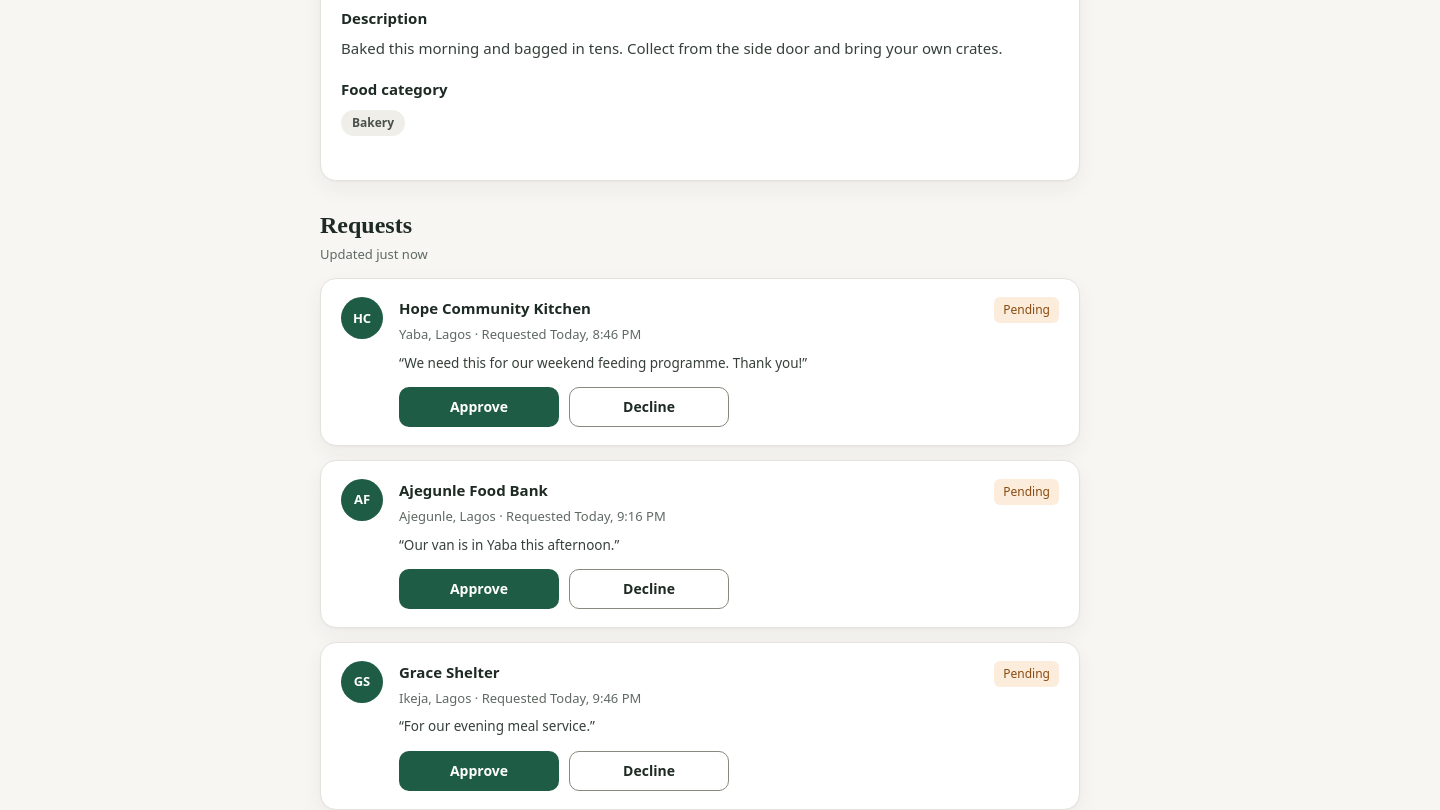
Listing details (donor): approving › rolls back on 409, says why, and moves focus to the request that is actually approved
(page scrolled)
Expected: the heading "Hope Community Kitchen" is shown, [399, 297, 591, 320]
What coordinates should you click on to do the following:
click the button "Approve" below "Our van is in Yaba this afternoon."
I would click on:
 (479, 589)
Its box is [399, 569, 559, 609].
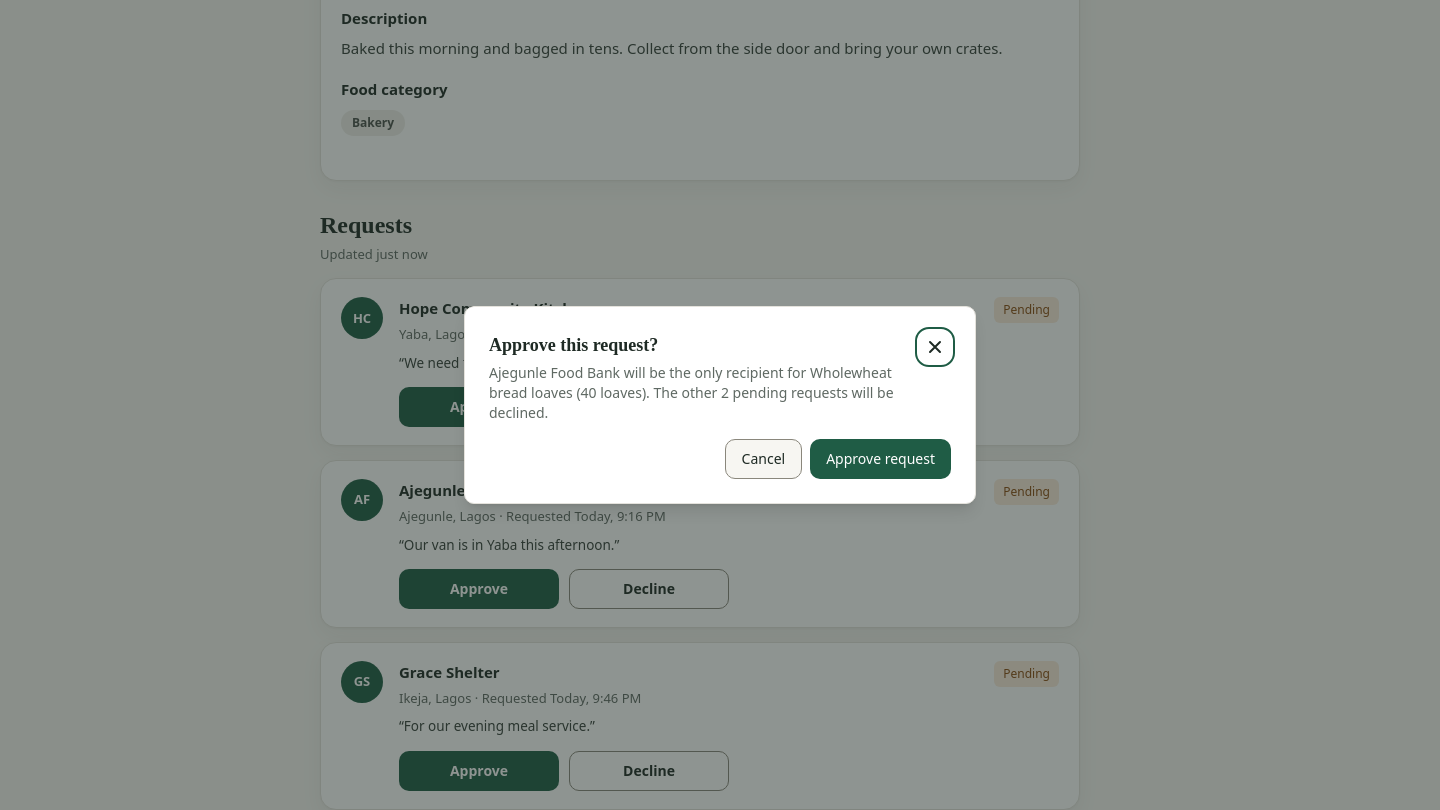
What coordinates should you click on to do the following:
click the button "Approve request"
I would click on:
 (881, 459)
Its box is [810, 439, 951, 479].
(page scrolled)
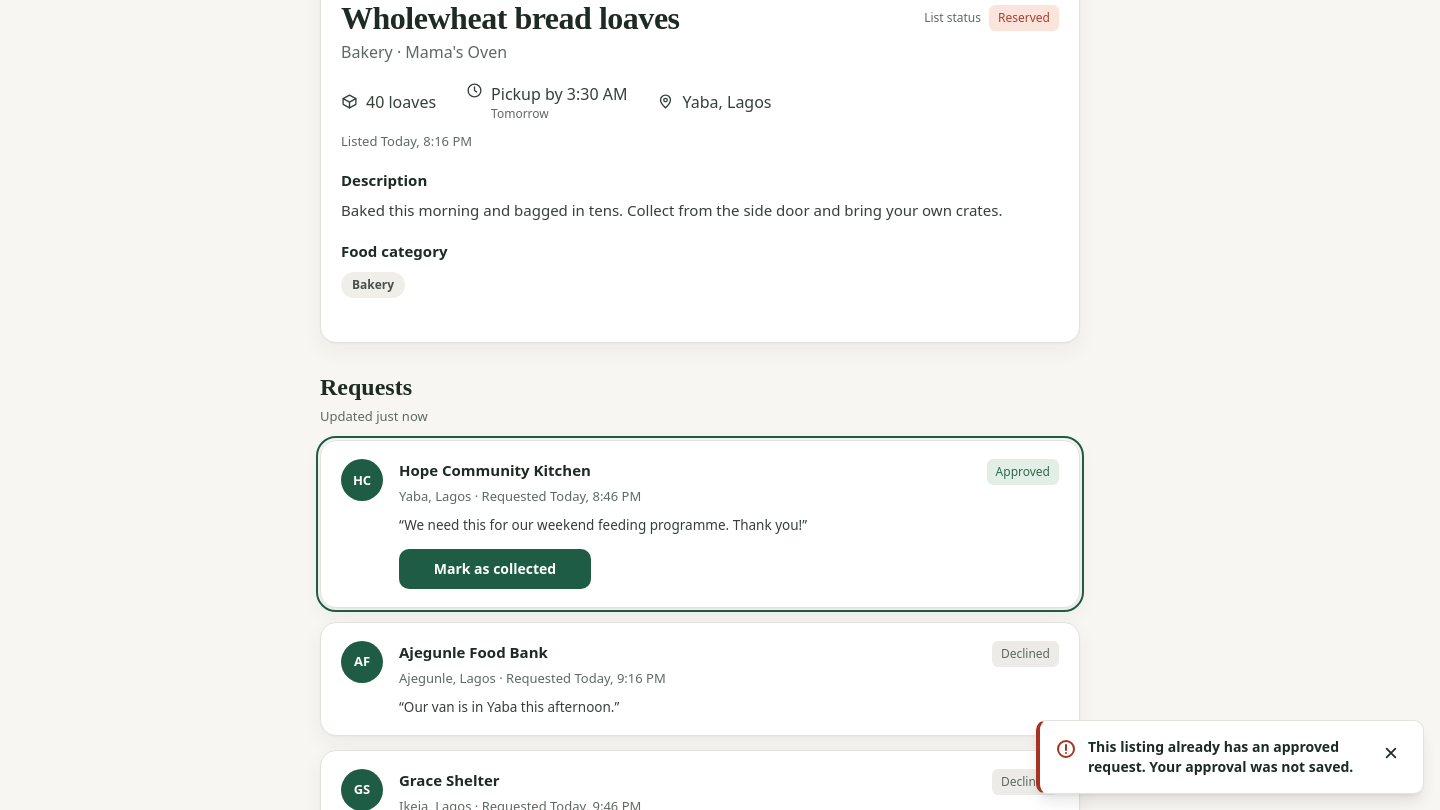
Now the text "This listing already has an approved request. Your approval was not saved." is shown, box [1088, 737, 1363, 777]
Now the text "Approved" is shown, box [996, 462, 1050, 482]
Now the text "Declined" is shown, box [1001, 644, 1050, 664]
